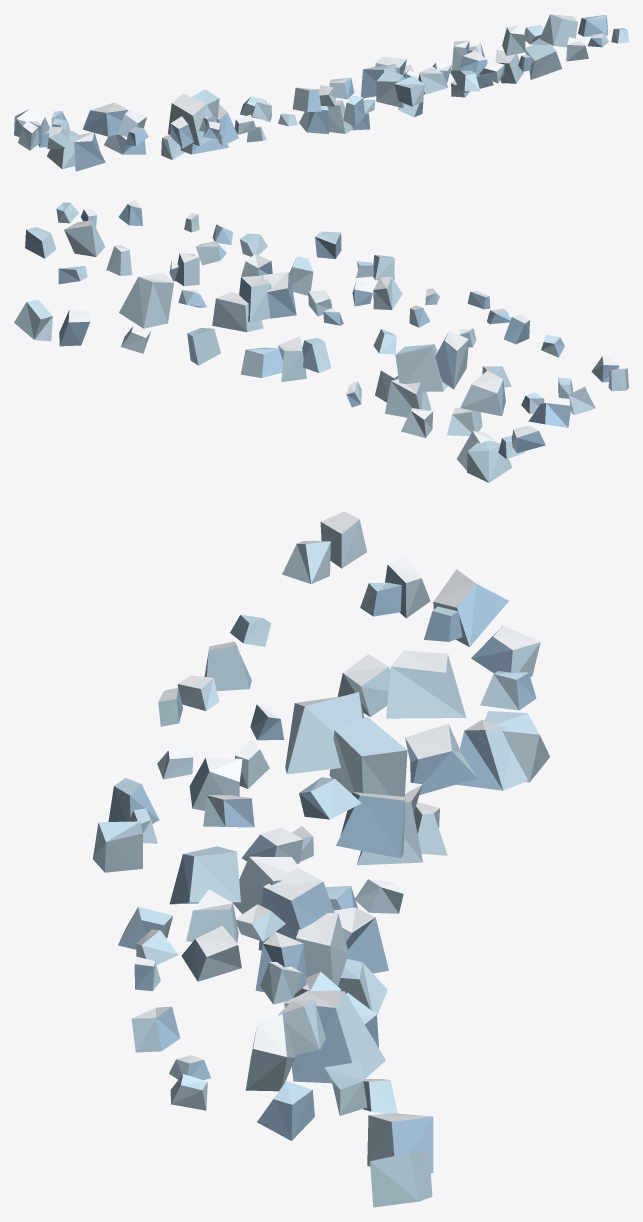
3 renders of one model, top to bottom at view 1: azimuth 30°, elevation 25°; view 2: azimuth 150°, elevation 25°; view 3: azimuth 270°, elevation 25°, orthographic. The views are drawn at different scales.
Visible parts, largest first — view 1: Mesh_L2A_IcefallBlocks; view 2: Mesh_L2A_IcefallBlocks; view 3: Mesh_L2A_IcefallBlocks.
Part boxes in pixels (x1,y1,x2,y2): Mesh_L2A_IcefallBlocks: [14, 14, 628, 171]; Mesh_L2A_IcefallBlocks: [14, 200, 628, 482]; Mesh_L2A_IcefallBlocks: [93, 511, 549, 1207].
Size of the model in its own units: 158 by 25.03 by 54.47.
